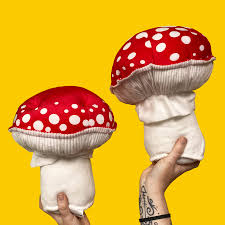Amanita muscaria: (107, 16, 216, 148), (4, 78, 124, 186)
